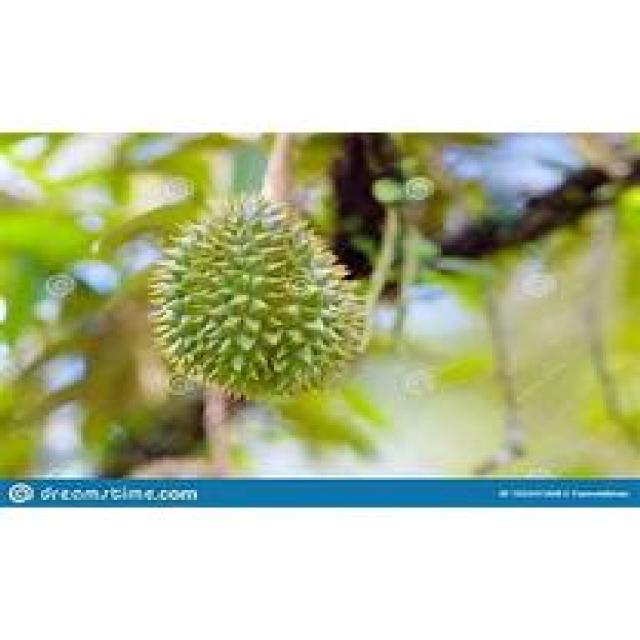fruit: (123, 175, 391, 427)
